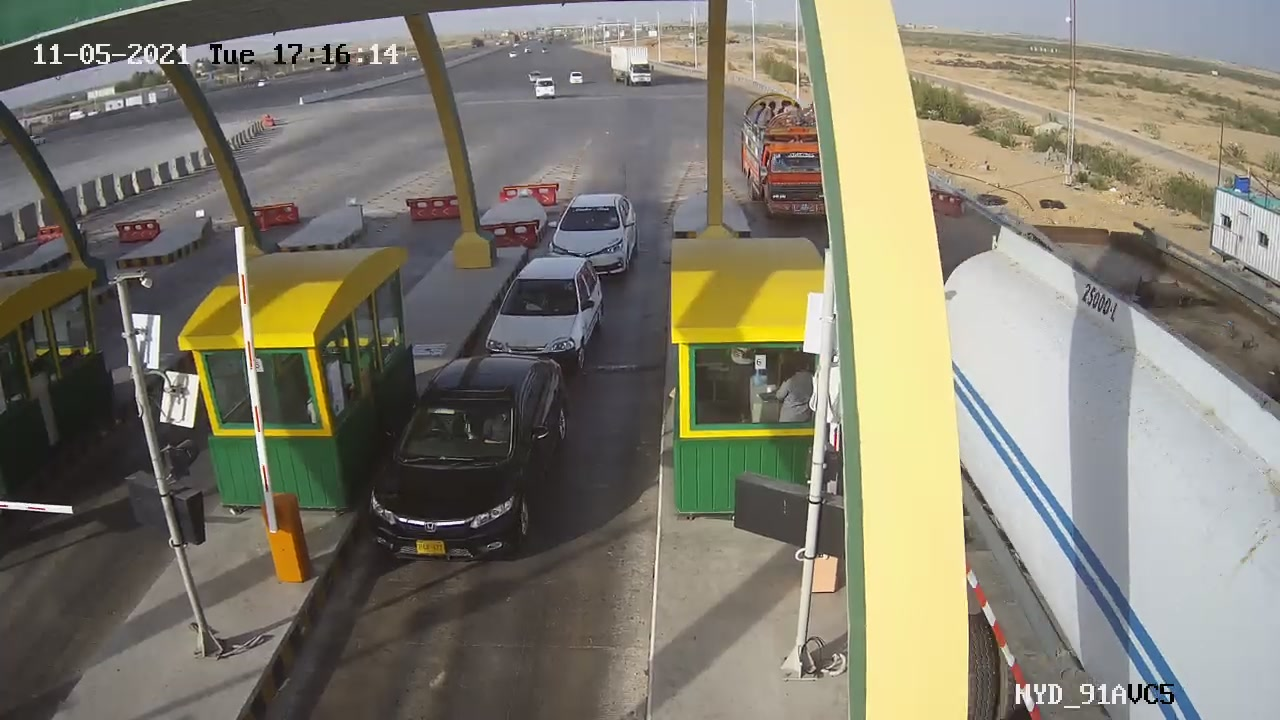F1: (356, 344, 585, 577), (470, 246, 616, 388), (538, 182, 650, 292)
